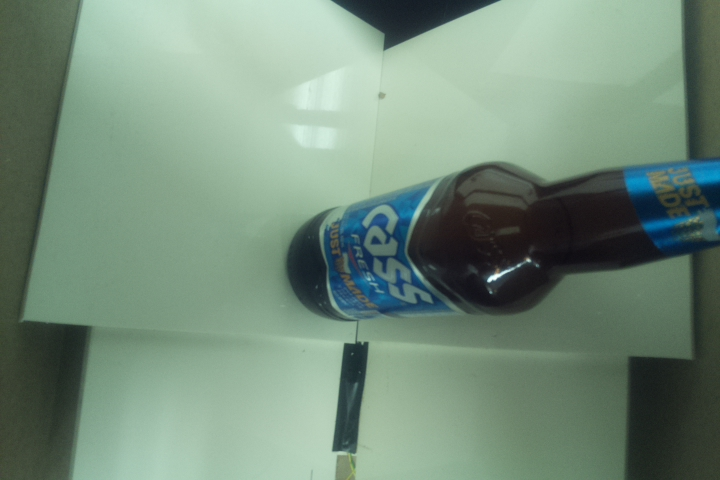makju: (283, 155, 720, 322)
